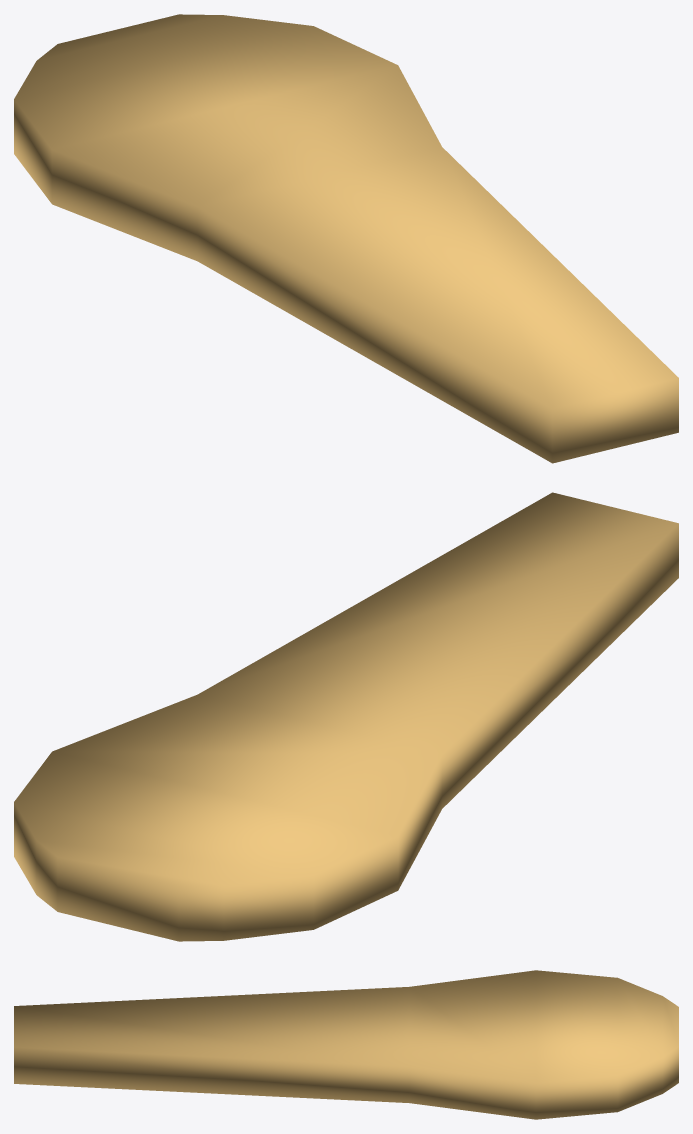
File: Rabo DeCastor.fbx
3 views of the same model, one above another, from view 1: azimuth 30°, elevation 25°; view 2: azimuth 150°, elevation 25°; view 3: azimuth 270°, elevation 25° (orthographic). The views are drawn at different scales.
Visible parts, largest first — view 1: Rabo DeCastor; view 2: Rabo DeCastor; view 3: Rabo DeCastor.
Part boxes in pixels (x1,y1,x2,y2): Rabo DeCastor: (14, 14, 678, 463); Rabo DeCastor: (14, 492, 678, 941); Rabo DeCastor: (14, 970, 678, 1119).
Size of the model in its own units: 186 by 28.05 by 462.
